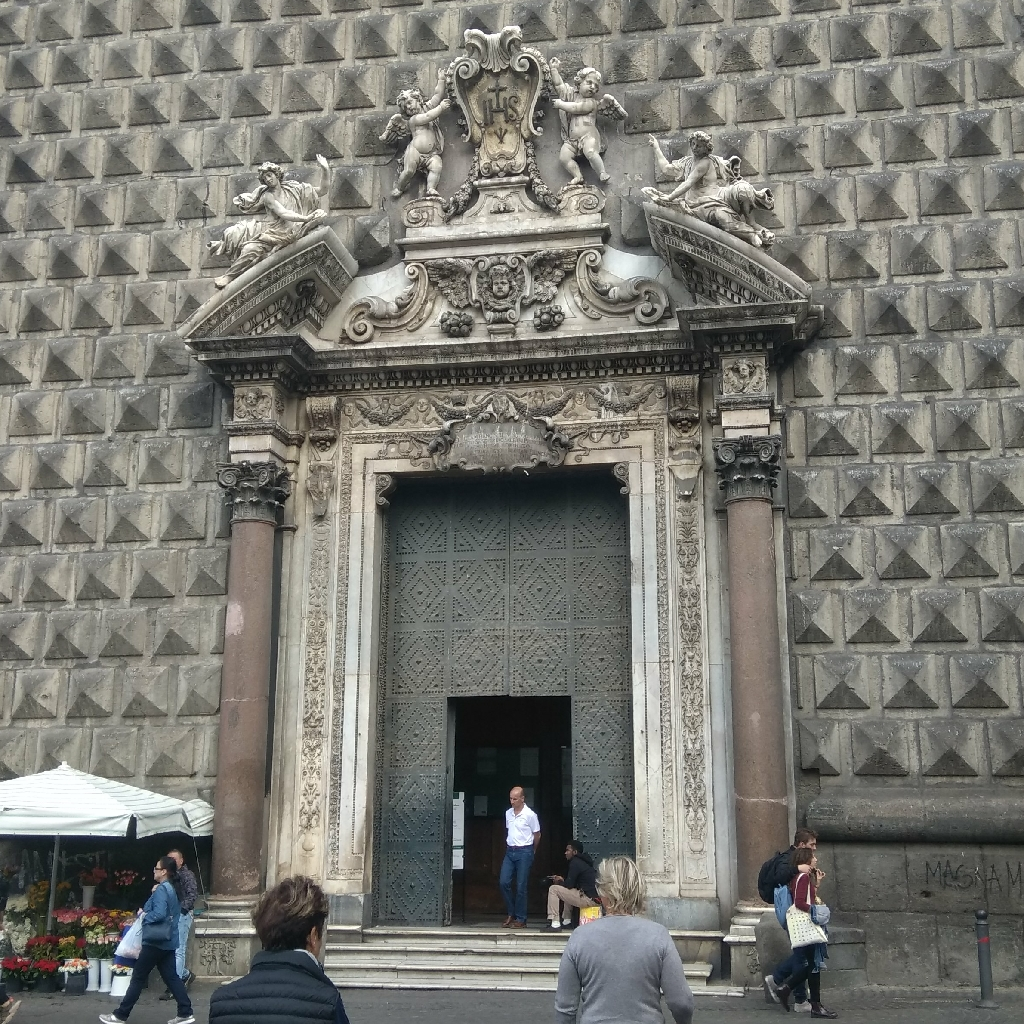fronton-partido: (185, 196, 815, 362)
vano-adintelado: (332, 408, 674, 938)
